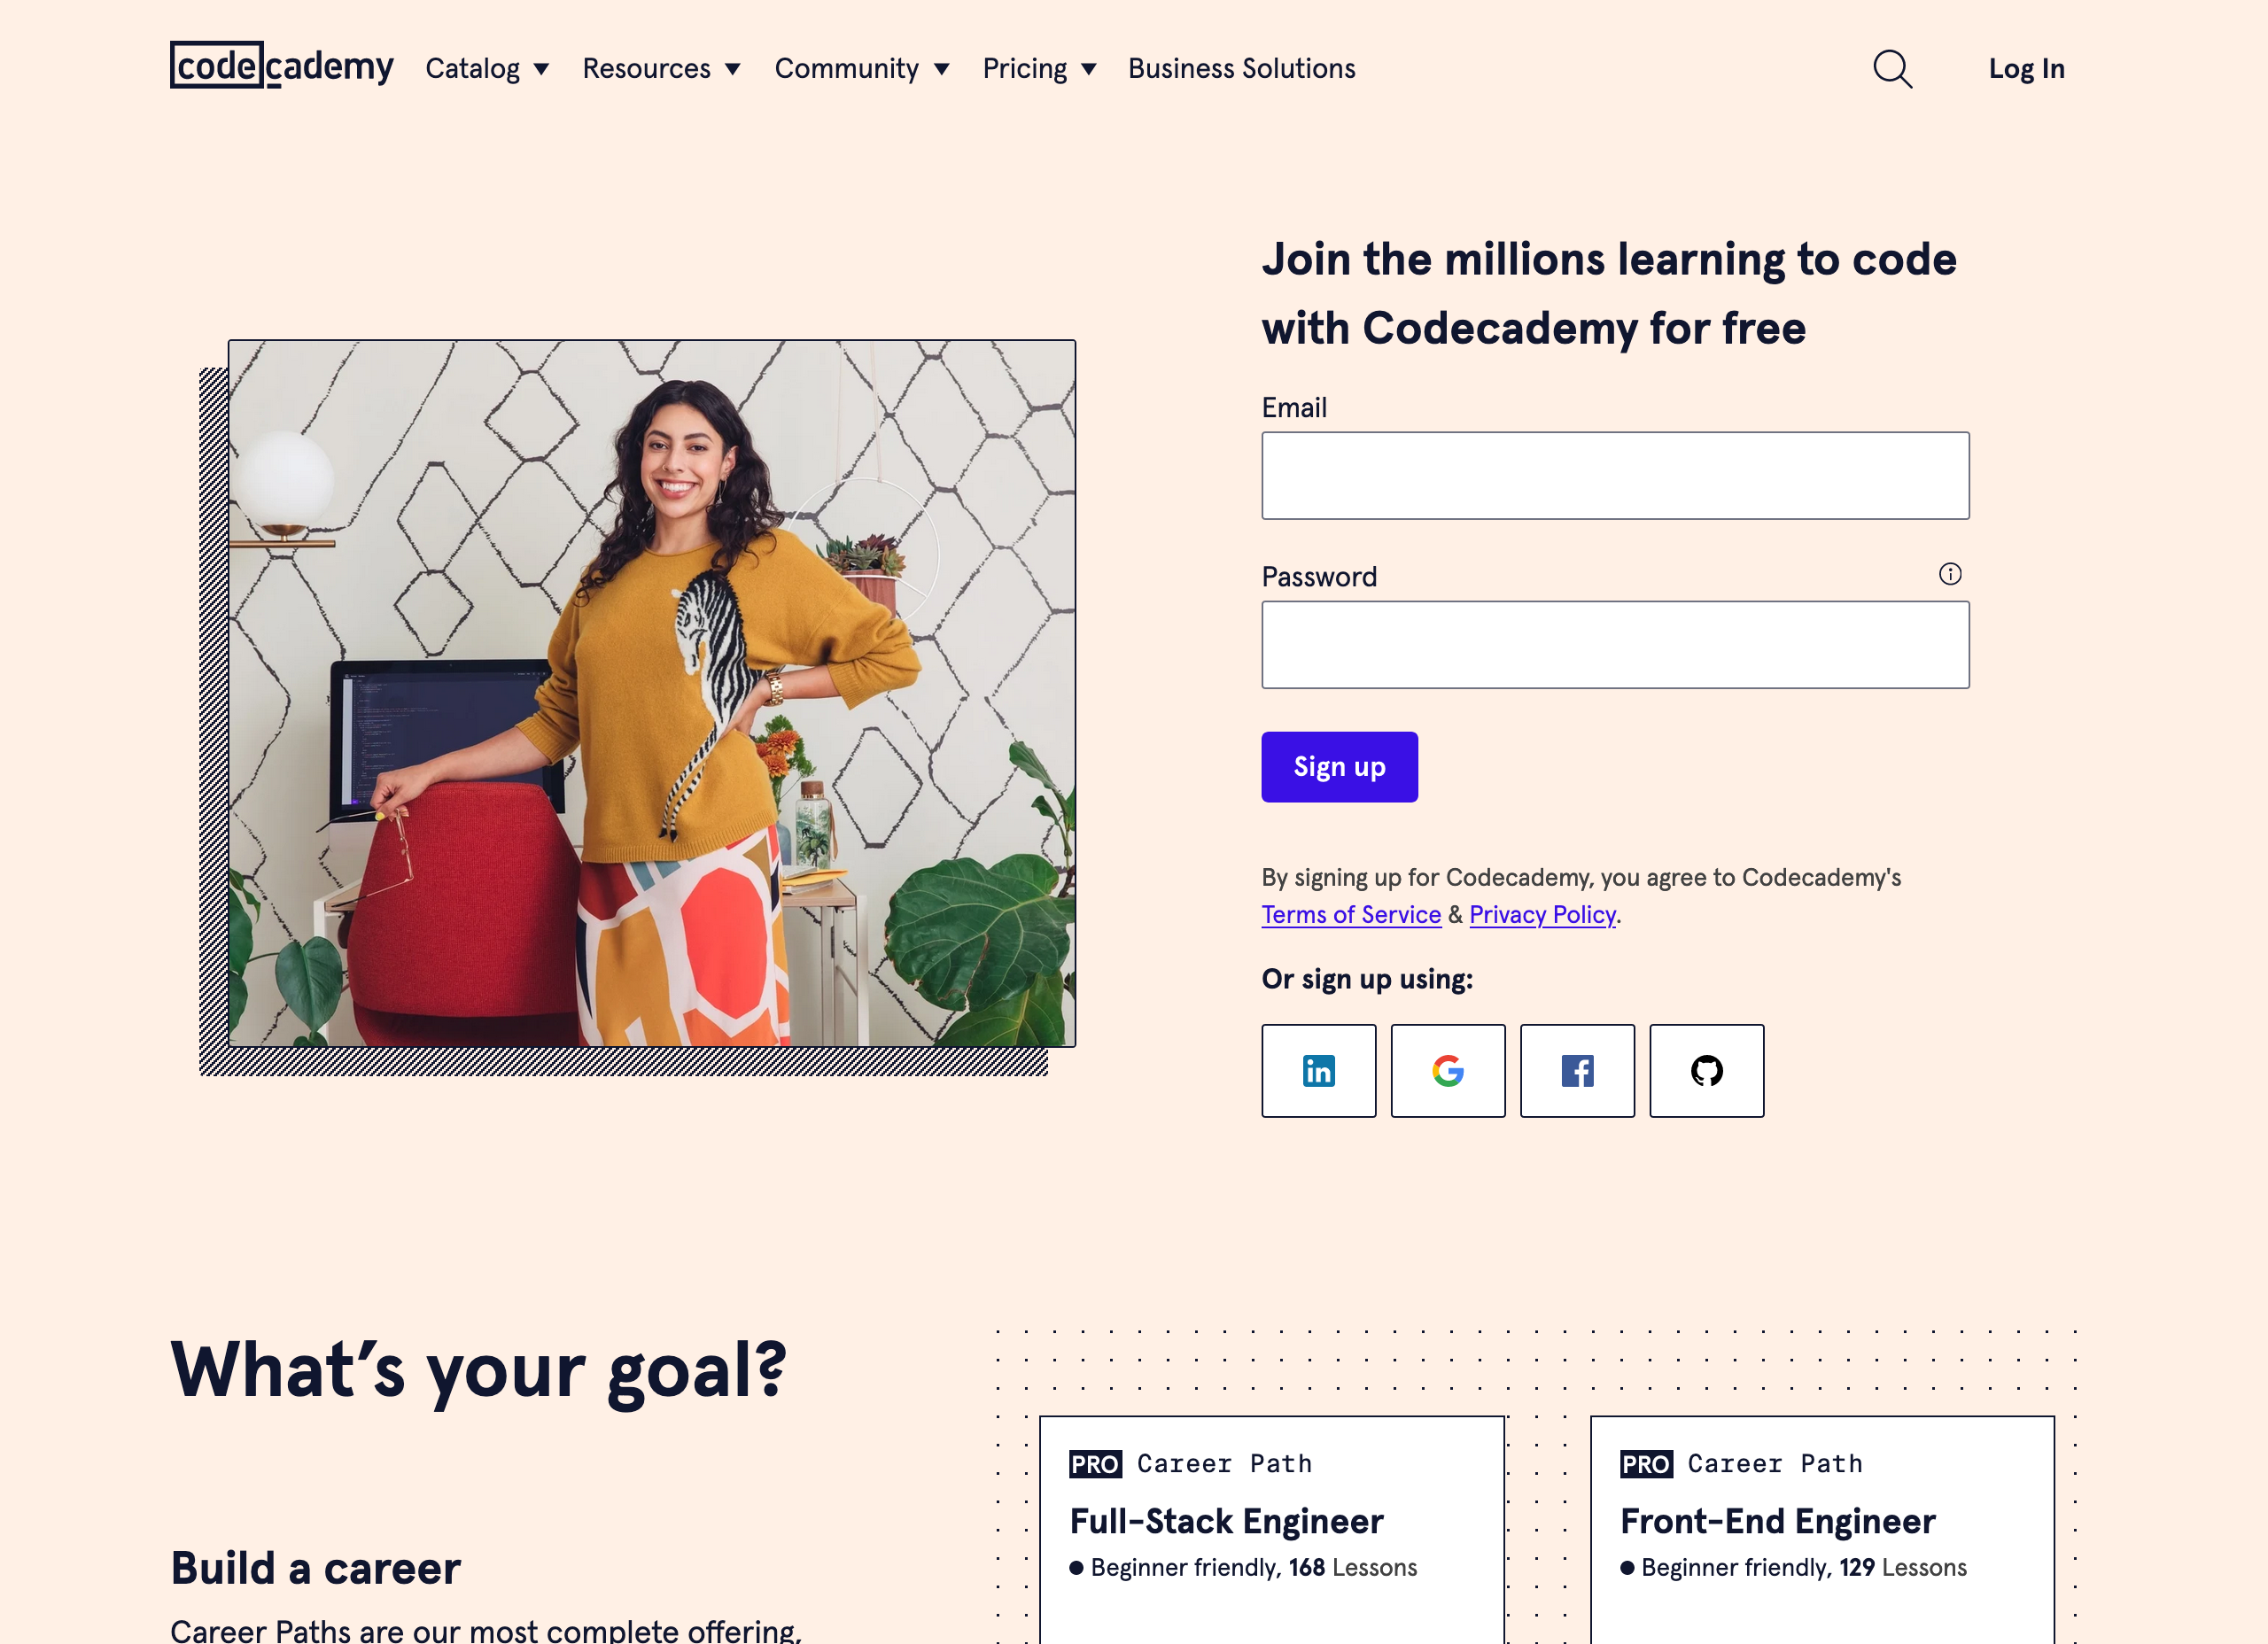Login: (1976, 40, 2080, 95)
